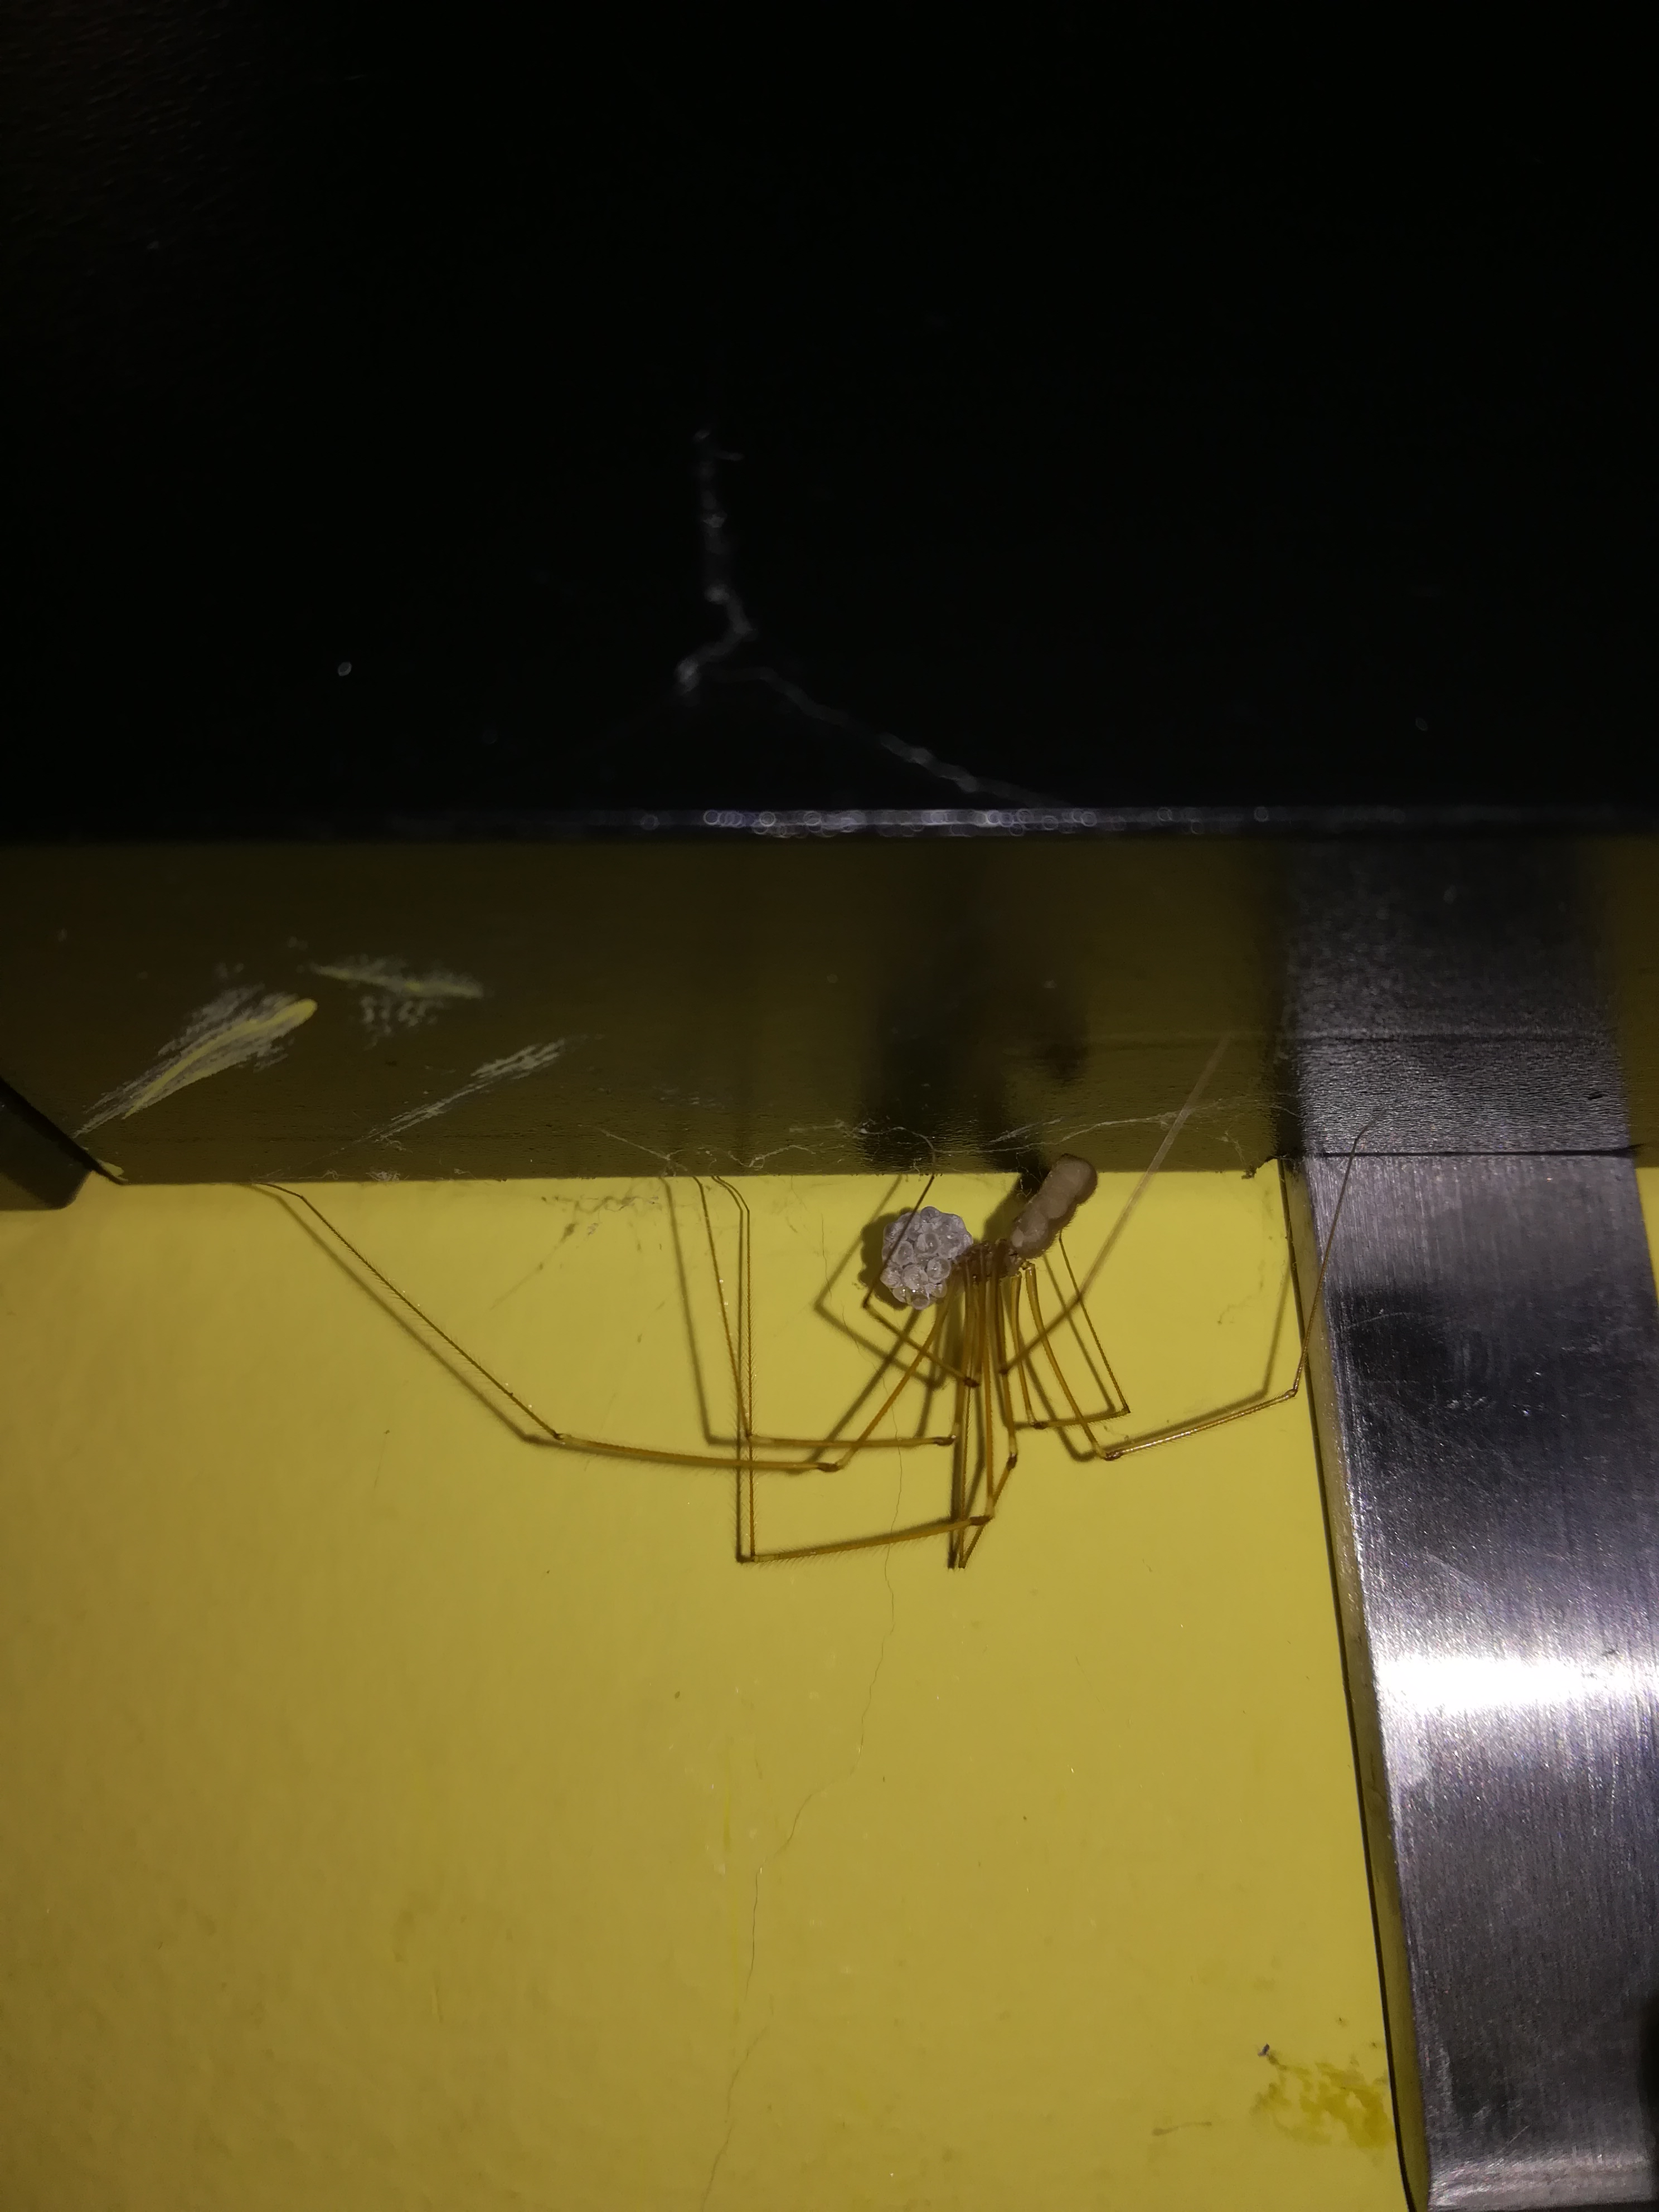spider: (181, 974, 1378, 1817)
